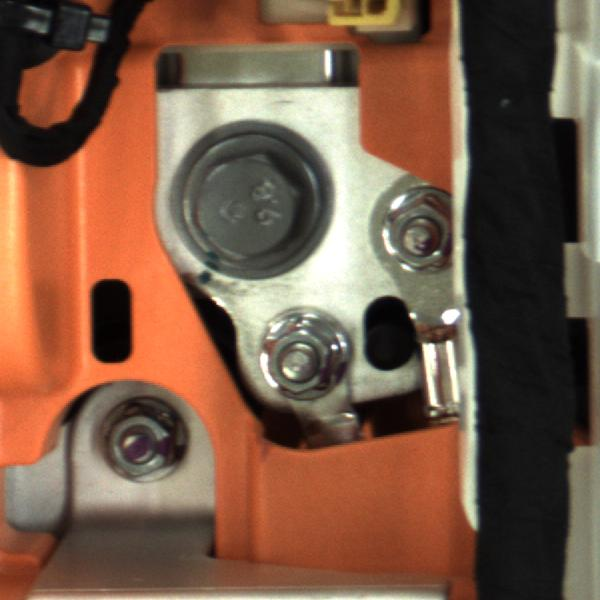nut_b: (173, 125, 328, 266)
screw_s: (82, 391, 203, 492), (250, 305, 365, 398), (371, 183, 467, 267)
